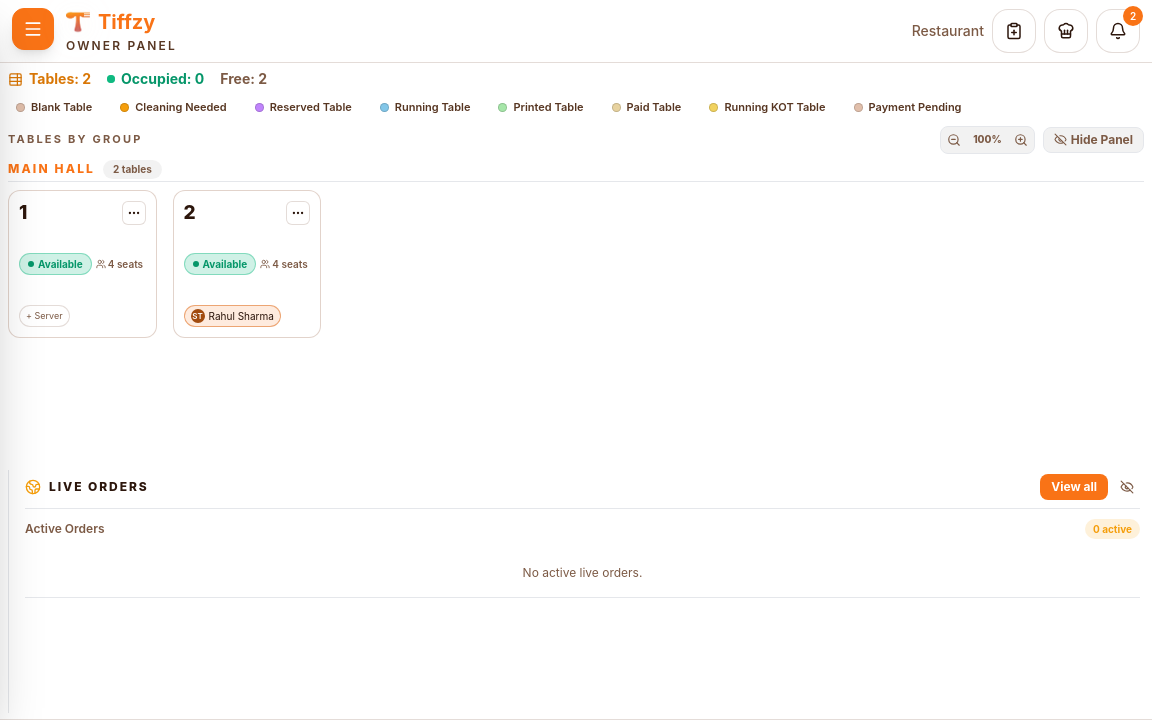
OwnerLayout — Server Assignment, Table Mapping & Display Audit › 3. Clicking assigned server opens selector with staff options and 'Remove assigned server'
This screenshot has width=1152, height=720.
Step 1. Click the button titled "Assigned: Rahul Sharma" → (232, 316), box [184,305,281,327]
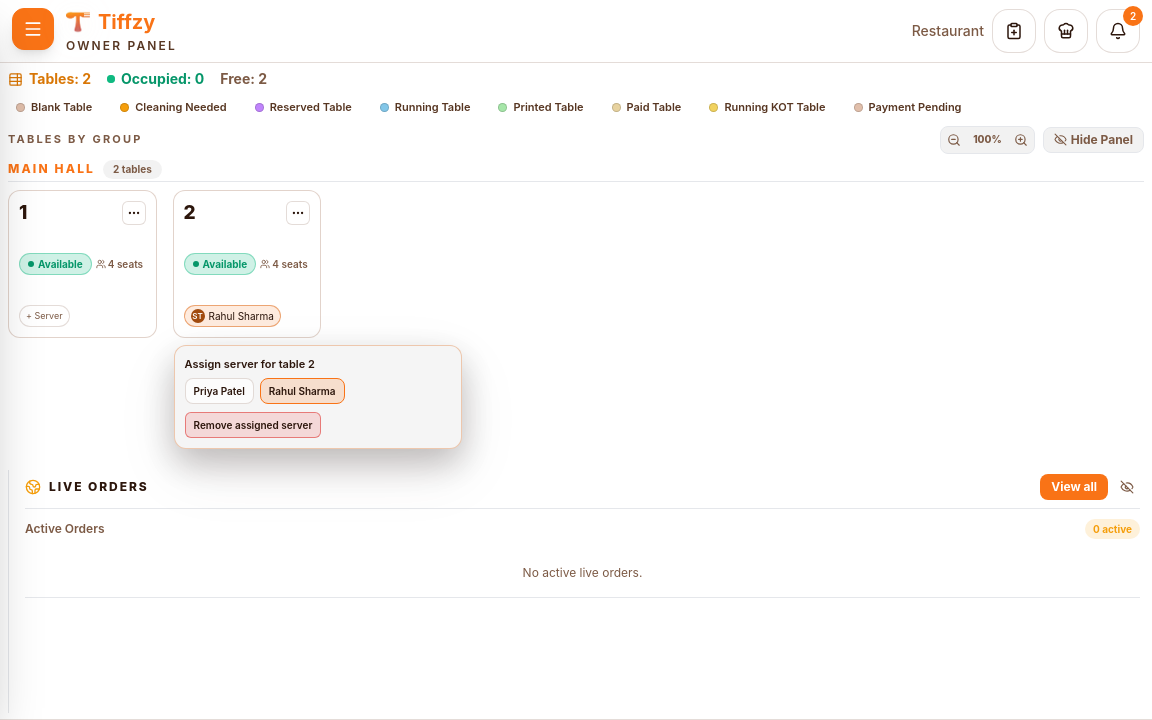
expect the button "Remove assigned server" is shown: met, box [185,412,321,438]
expect the button "Priya Patel" is shown: met, box [185,378,254,404]
